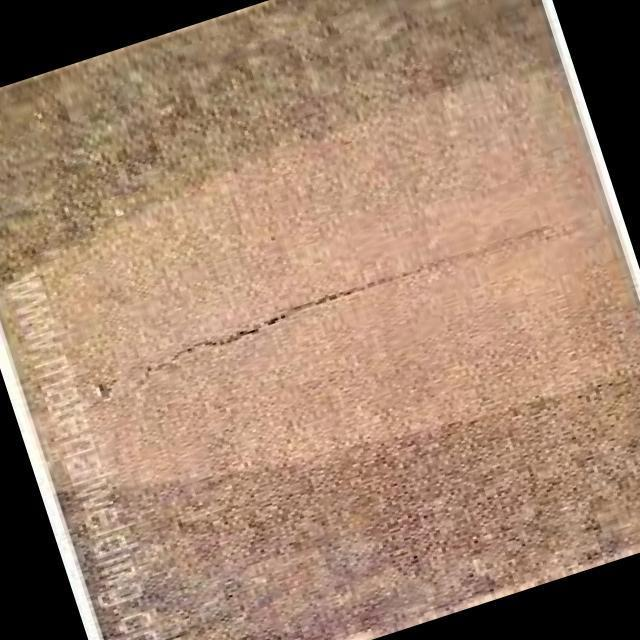defect: (125, 226, 563, 398)
